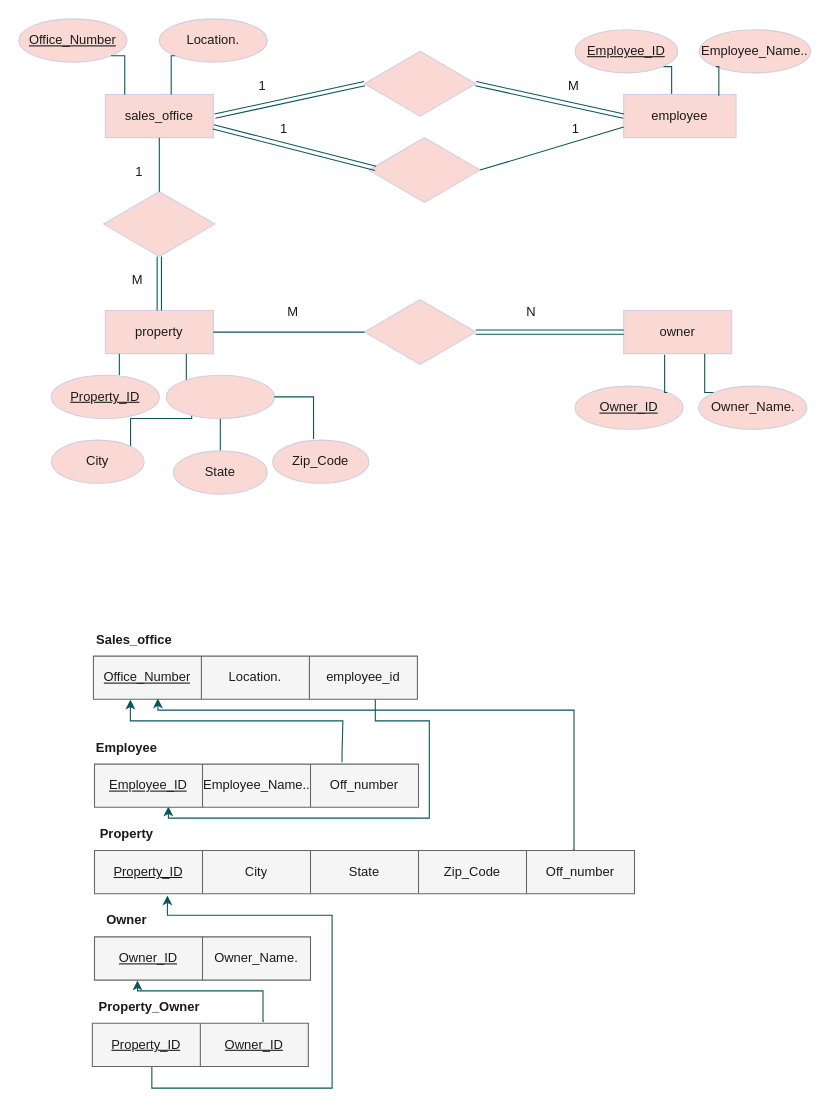
Image size: 829x1116. Some labels were removed from this diagram. Each missing label, with the centre of its shape:
assigns: the point at 419,83
lists: the point at 159,223
Location: the point at 219,396
manage: the point at 424,169
own: the point at 419,331
